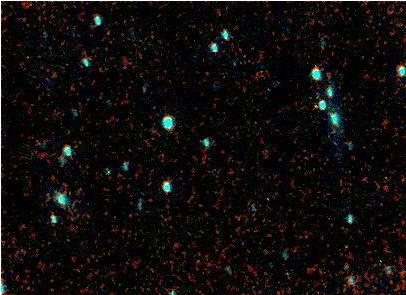star: (300, 89, 330, 119)
